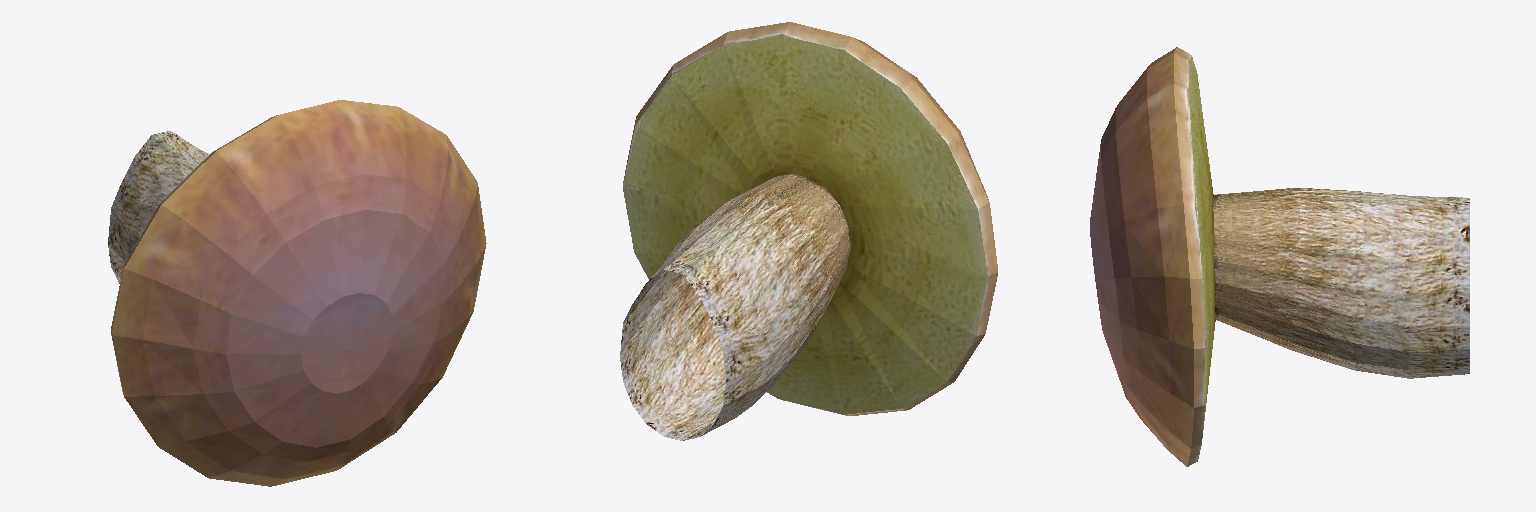
The picture shows the model from 3 angles: view 1: azimuth 30°, elevation 25°; view 2: azimuth 150°, elevation 25°; view 3: azimuth 270°, elevation 25°; orthographic projection.
Visible parts, largest first — view 1: Cylinder01; view 2: Cylinder01; view 3: Cylinder01.
Part boxes in pixels (x1,y1,x2,y2): Cylinder01: (108,100,486,486); Cylinder01: (620,22,997,440); Cylinder01: (1090,47,1469,466).
Bounding box in the file's own units: 76.71 × 73.33 × 67.33.
Materials: 1 (1 with a texture image).